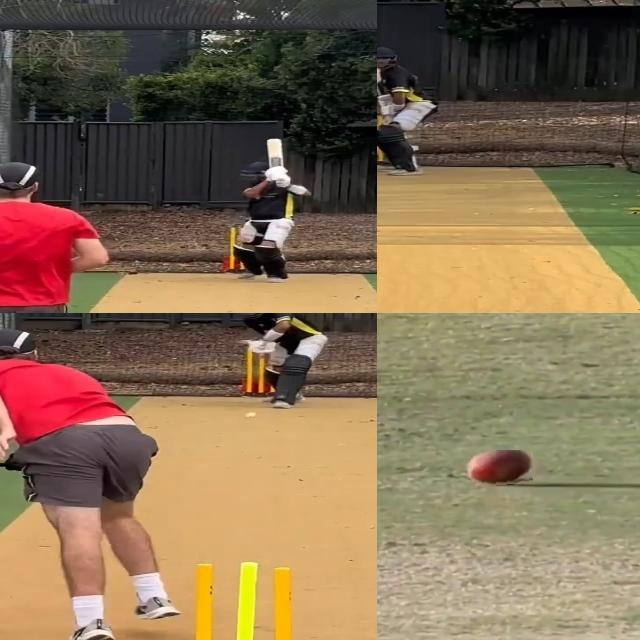Cricket ball: (467, 450, 533, 488), (243, 411, 260, 420)
Stumps: (173, 559, 313, 640)
